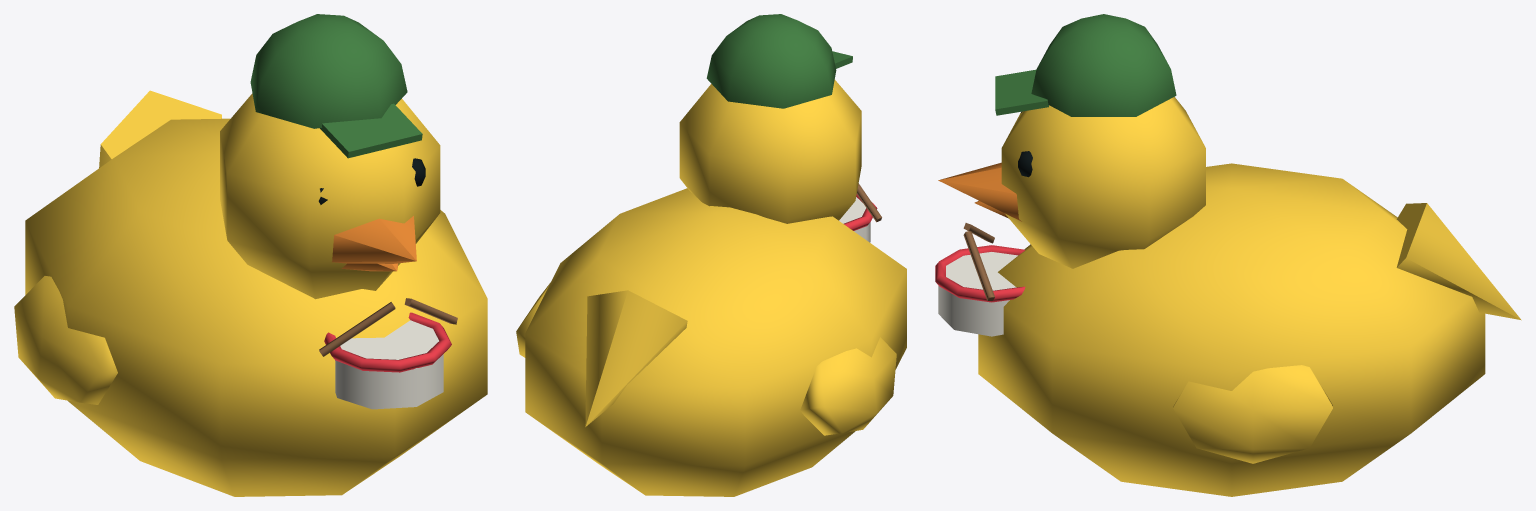
The model's file is duck-drummer.glb.
3 renders of one model, left to right at view 1: azimuth 30°, elevation 25°; view 2: azimuth 150°, elevation 25°; view 3: azimuth 270°, elevation 25°, orthographic. The views are drawn at different scales.
Visible parts, largest first — view 1: CouncilDuck_drummer; view 2: CouncilDuck_drummer; view 3: CouncilDuck_drummer.
Part boxes in pixels (x1,y1,x2,y2): CouncilDuck_drummer: (14,14,487,496); CouncilDuck_drummer: (516,14,906,496); CouncilDuck_drummer: (935,14,1521,496).
Size of the model in its own units: 2.46 by 2.8 by 3.3.
